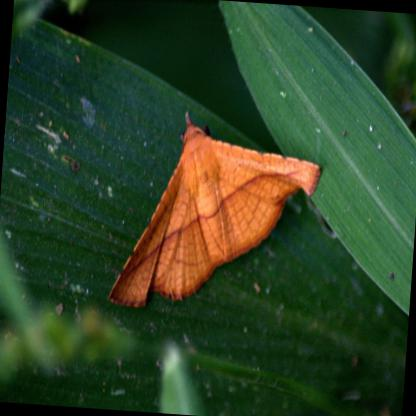Leaf Webber: (105, 110, 323, 313)
